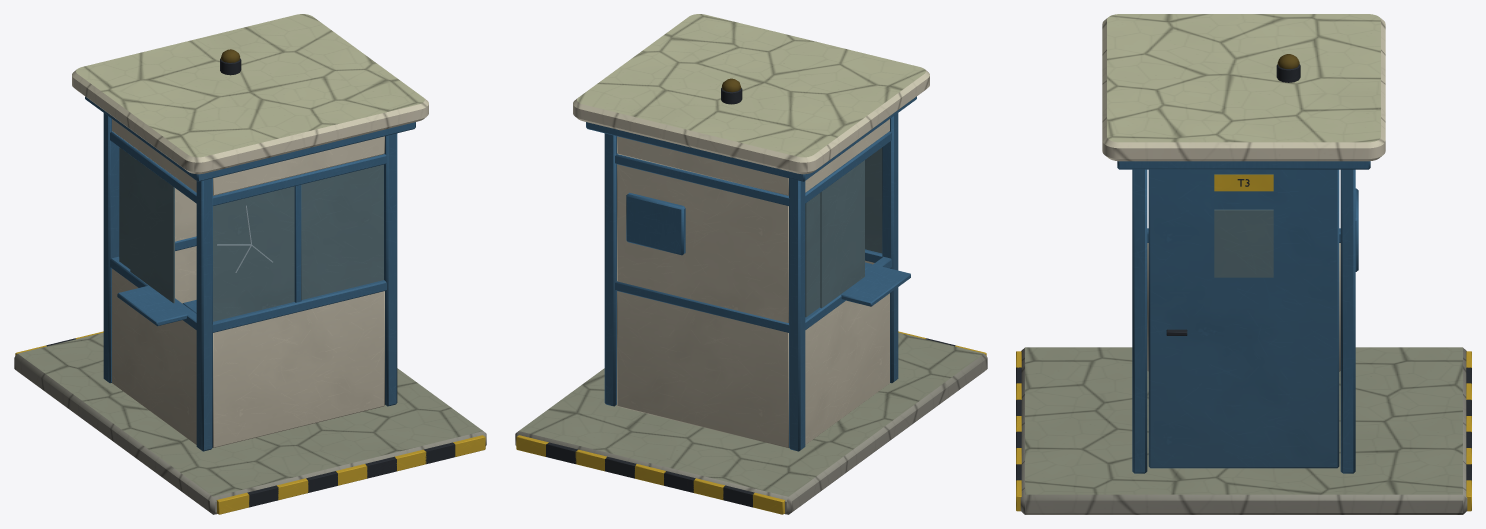
File: toll_booth.glb
The picture shows the model from 3 angles, left to right: view 1: azimuth 30°, elevation 25°; view 2: azimuth 150°, elevation 25°; view 3: azimuth 270°, elevation 25°; orthographic projection. The views are drawn at different scales.
Visible parts, largest first — view 1: toll_booth; view 2: toll_booth; view 3: toll_booth.
Part boxes in pixels (box(x1,y1,x2,y2)): toll_booth: box(14, 14, 486, 514); toll_booth: box(515, 14, 987, 514); toll_booth: box(1016, 14, 1471, 514).
Bounding box in the file's own units: 2.4 × 2.86 × 3.06.
10 materials, 10 textured.
